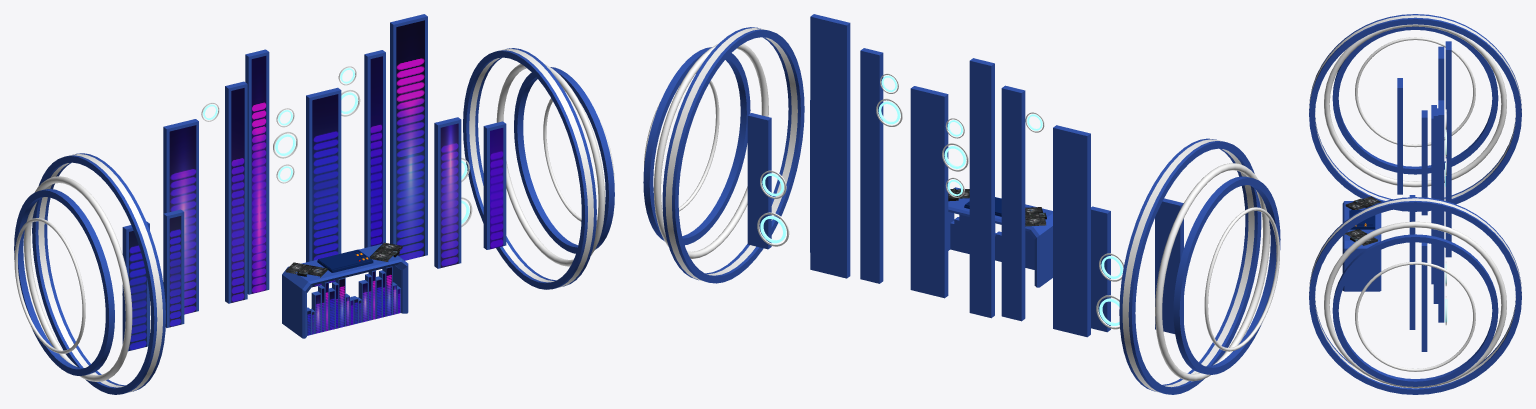
Rendered from DJ台.fbx.
The picture shows the model from 3 angles, left to right: view 1: azimuth 30°, elevation 25°; view 2: azimuth 150°, elevation 25°; view 3: azimuth 270°, elevation 25°; orthographic projection. The views are drawn at different scales.
Parts seen in each view (by area): view 1: DJ台_动态灯, DJ台_动态灯框, DJ台_灯圆_边框_001, DJ台_灯圆_边框_003, DJ台_灯圆_边框_004, DJ台_灯圆_边框_002, DJ台_灯条_桌子, DJ台_动态灯_桌下, DJ台_灯圆_灯白_005, DJ台_灯圆_灯白_004, DJ台_灯圆_灯白_001, DJ台_灯圆_灯白_002 (+4 smaller); view 2: DJ台_动态灯框, DJ台_灯圆_边框_001, DJ台_灯圆_边框_003, DJ台_灯圆_边框_004, DJ台_灯圆_边框_002, DJ台_灯圆_灯白_005, DJ台_灯圆_灯白_004, DJ台_灯圆_灯白_001, DJ台_灯圆_灯白_002, DJ台_灯条_桌子, DJ台_灯圆_灯白_006, DJ台_动态灯框001 (+1 smaller); view 3: DJ台_动态灯框, DJ台_灯圆_边框_001, DJ台_灯圆_边框_003, DJ台_灯圆_边框_002, DJ台_灯圆_边框_004, DJ台_灯圆_灯白_005, DJ台_灯圆_灯白_002, DJ台_灯条_桌子, DJ台_灯圆_灯白_003, DJ台_灯圆_灯白_004, DJ台_灯圆_灯白_001, DJ台_灯圆_灯白_006 (+3 smaller).
Part boxes in pixels (x1=…): DJ台_动态灯: x1=129, y1=20, x2=503, y2=350; DJ台_动态灯框: x1=122, y1=14, x2=506, y2=351; DJ台_灯圆_边框_001: x1=463, y1=48, x2=596, y2=289; DJ台_灯圆_边框_003: x1=32, y1=153, x2=165, y2=394; DJ台_灯圆_边框_004: x1=14, y1=189, x2=114, y2=375; DJ台_灯圆_边框_002: x1=514, y1=67, x2=614, y2=253; DJ台_灯条_桌子: x1=282, y1=244, x2=408, y2=338; DJ台_动态灯_桌下: x1=307, y1=267, x2=400, y2=335; DJ台_灯圆_灯白_005: x1=23, y1=176, x2=132, y2=381; DJ台_灯圆_灯白_004: x1=38, y1=154, x2=162, y2=393; DJ台_灯圆_灯白_001: x1=469, y1=48, x2=593, y2=287; DJ台_灯圆_灯白_002: x1=496, y1=63, x2=605, y2=266; DJ台_动态灯框: x1=747, y1=14, x2=1183, y2=337; DJ台_灯圆_边框_001: x1=662, y1=27, x2=804, y2=283; DJ台_灯圆_边框_003: x1=1119, y1=138, x2=1261, y2=394; DJ台_灯圆_边框_004: x1=1173, y1=176, x2=1280, y2=374; DJ台_灯圆_边框_002: x1=643, y1=47, x2=750, y2=244; DJ台_灯圆_灯白_005: x1=1155, y1=163, x2=1270, y2=381; DJ台_灯圆_灯白_004: x1=1122, y1=139, x2=1254, y2=392; DJ台_灯圆_灯白_001: x1=665, y1=28, x2=797, y2=281; DJ台_灯圆_灯白_002: x1=653, y1=43, x2=768, y2=258; DJ台_灯条_桌子: x1=948, y1=187, x2=1052, y2=287; DJ台_灯圆_灯白_006: x1=1204, y1=207, x2=1279, y2=351; DJ台_动态灯框001: x1=950, y1=214, x2=1034, y2=269; DJ台_动态灯框: x1=1397, y1=41, x2=1451, y2=351; DJ台_灯圆_边框_001: x1=1309, y1=197, x2=1521, y2=394; DJ台_灯圆_边框_003: x1=1309, y1=14, x2=1521, y2=211; DJ台_灯圆_边框_002: x1=1332, y1=234, x2=1498, y2=386; DJ台_灯圆_边框_004: x1=1332, y1=26, x2=1498, y2=174; DJ台_灯圆_灯白_005: x1=1324, y1=24, x2=1506, y2=187; DJ台_灯圆_灯白_002: x1=1324, y1=221, x2=1506, y2=388; DJ台_灯条_桌子: x1=1342, y1=201, x2=1381, y2=291; DJ台_灯圆_灯白_003: x1=1355, y1=261, x2=1475, y2=371; DJ台_灯圆_灯白_004: x1=1309, y1=15, x2=1521, y2=200; DJ台_灯圆_灯白_001: x1=1309, y1=198, x2=1521, y2=388; DJ台_灯圆_灯白_006: x1=1355, y1=37, x2=1475, y2=147.
Bounding box in the file's own units: 9.04 × 4.47 × 3.6.
